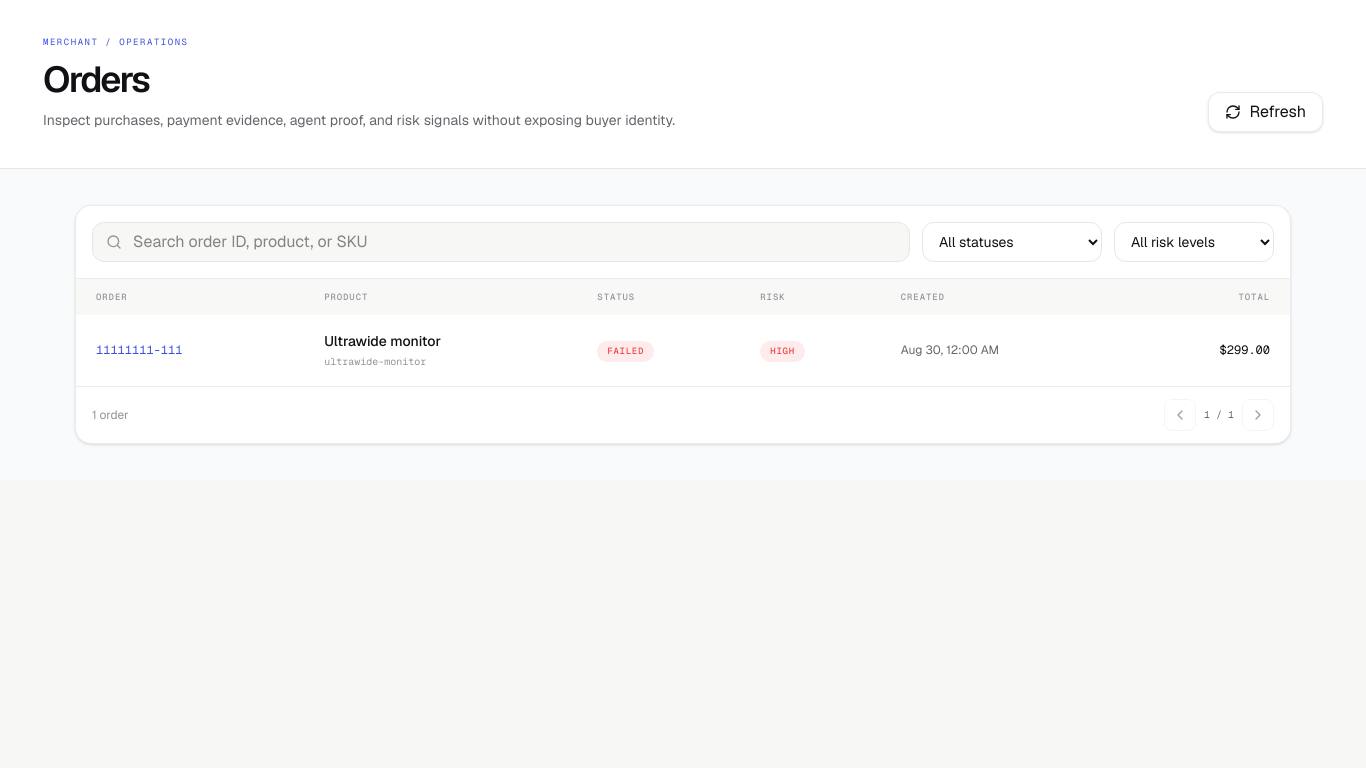
Test case: merchant operations UI › shows auditable risk reasons in the order drawer
Click the text "Ultrawide monitor".
click(382, 341)  # box [324,332,441,350]
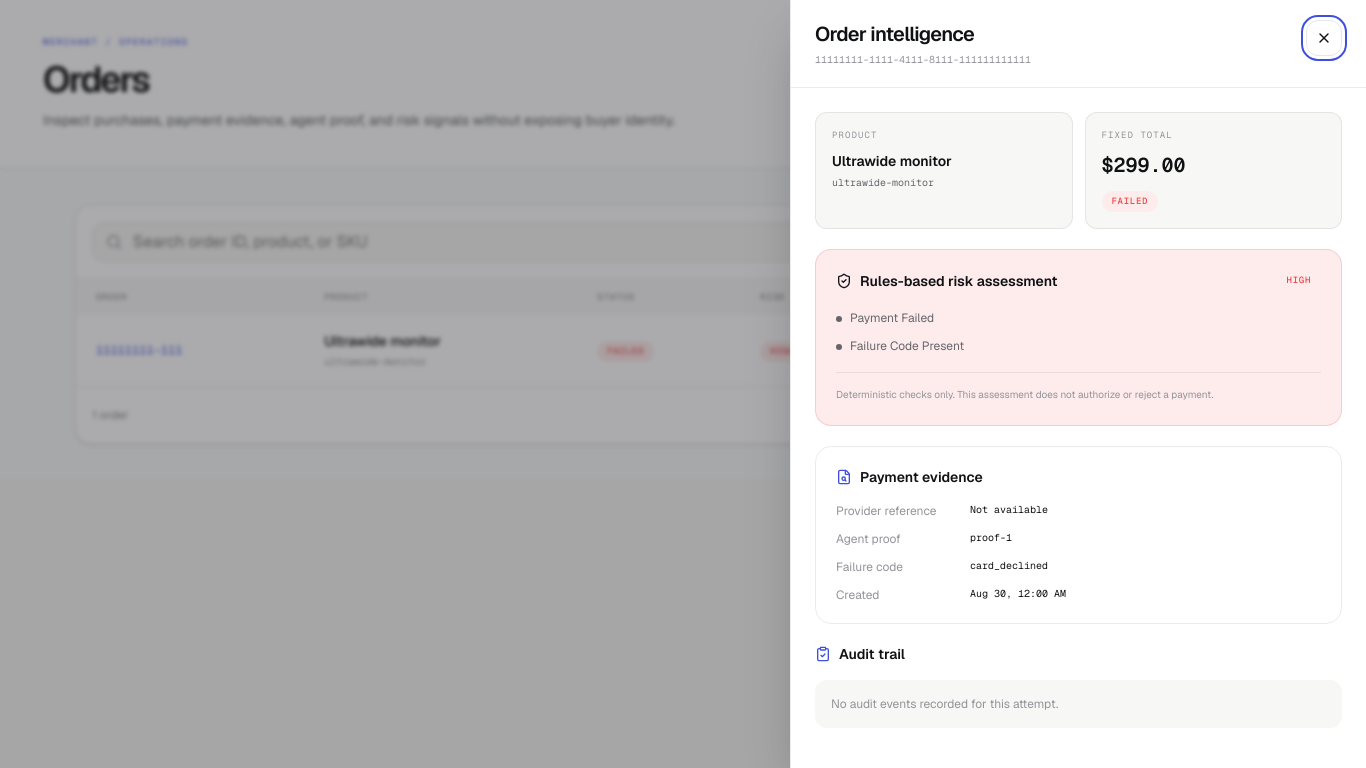
Check: the dialog shows "Rules-based risk assessment", box [860,272,1058,290]
Check: the dialog shows "Payment Failed", box [850,310,934,326]
Check: the dialog shows "Failure Code Present", box [850,338,964,354]
